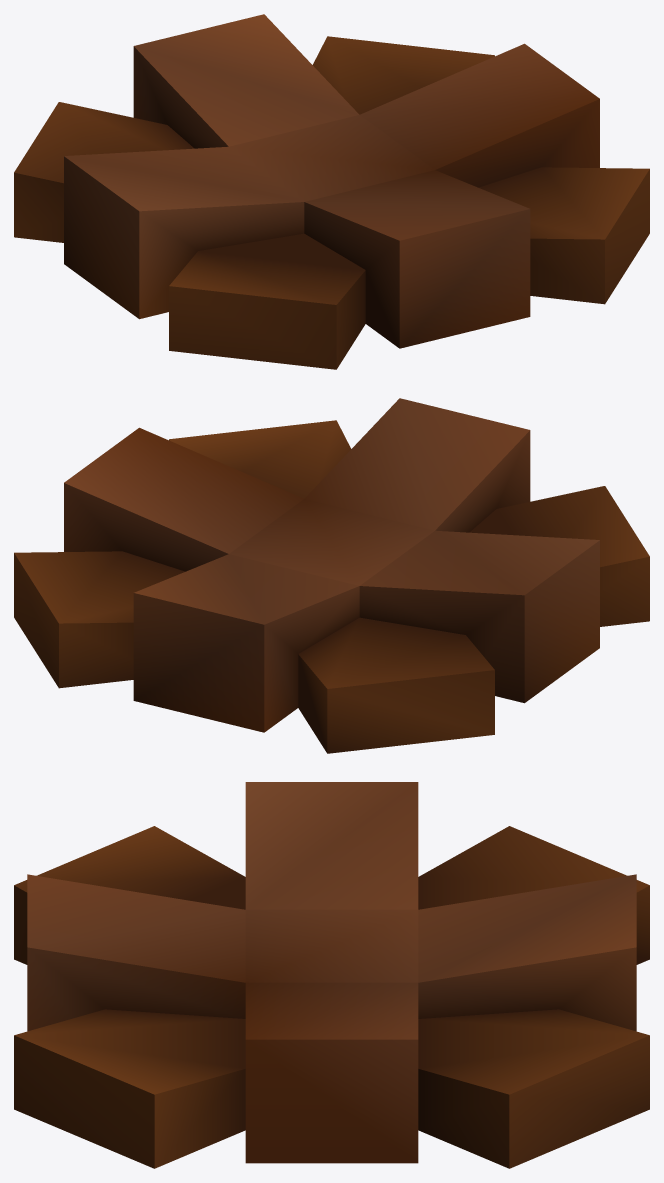
The model's file is campfire-logs.fbx.
3 views of the same model, one above another, from view 1: azimuth 30°, elevation 25°; view 2: azimuth 150°, elevation 25°; view 3: azimuth 270°, elevation 25° (orthographic). The views are drawn at different scales.
Visible parts, largest first — view 1: campfire_logs; view 2: campfire_logs; view 3: campfire_logs.
Part boxes in pixels (<box>): campfire_logs: <box>14,14,649,369</box>; campfire_logs: <box>14,398,649,753</box>; campfire_logs: <box>14,782,649,1168</box>.
Bounding box in the file's own units: 29.19 × 6.26 × 29.19.
